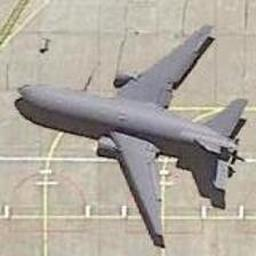Airplane: (13, 21, 250, 248)
